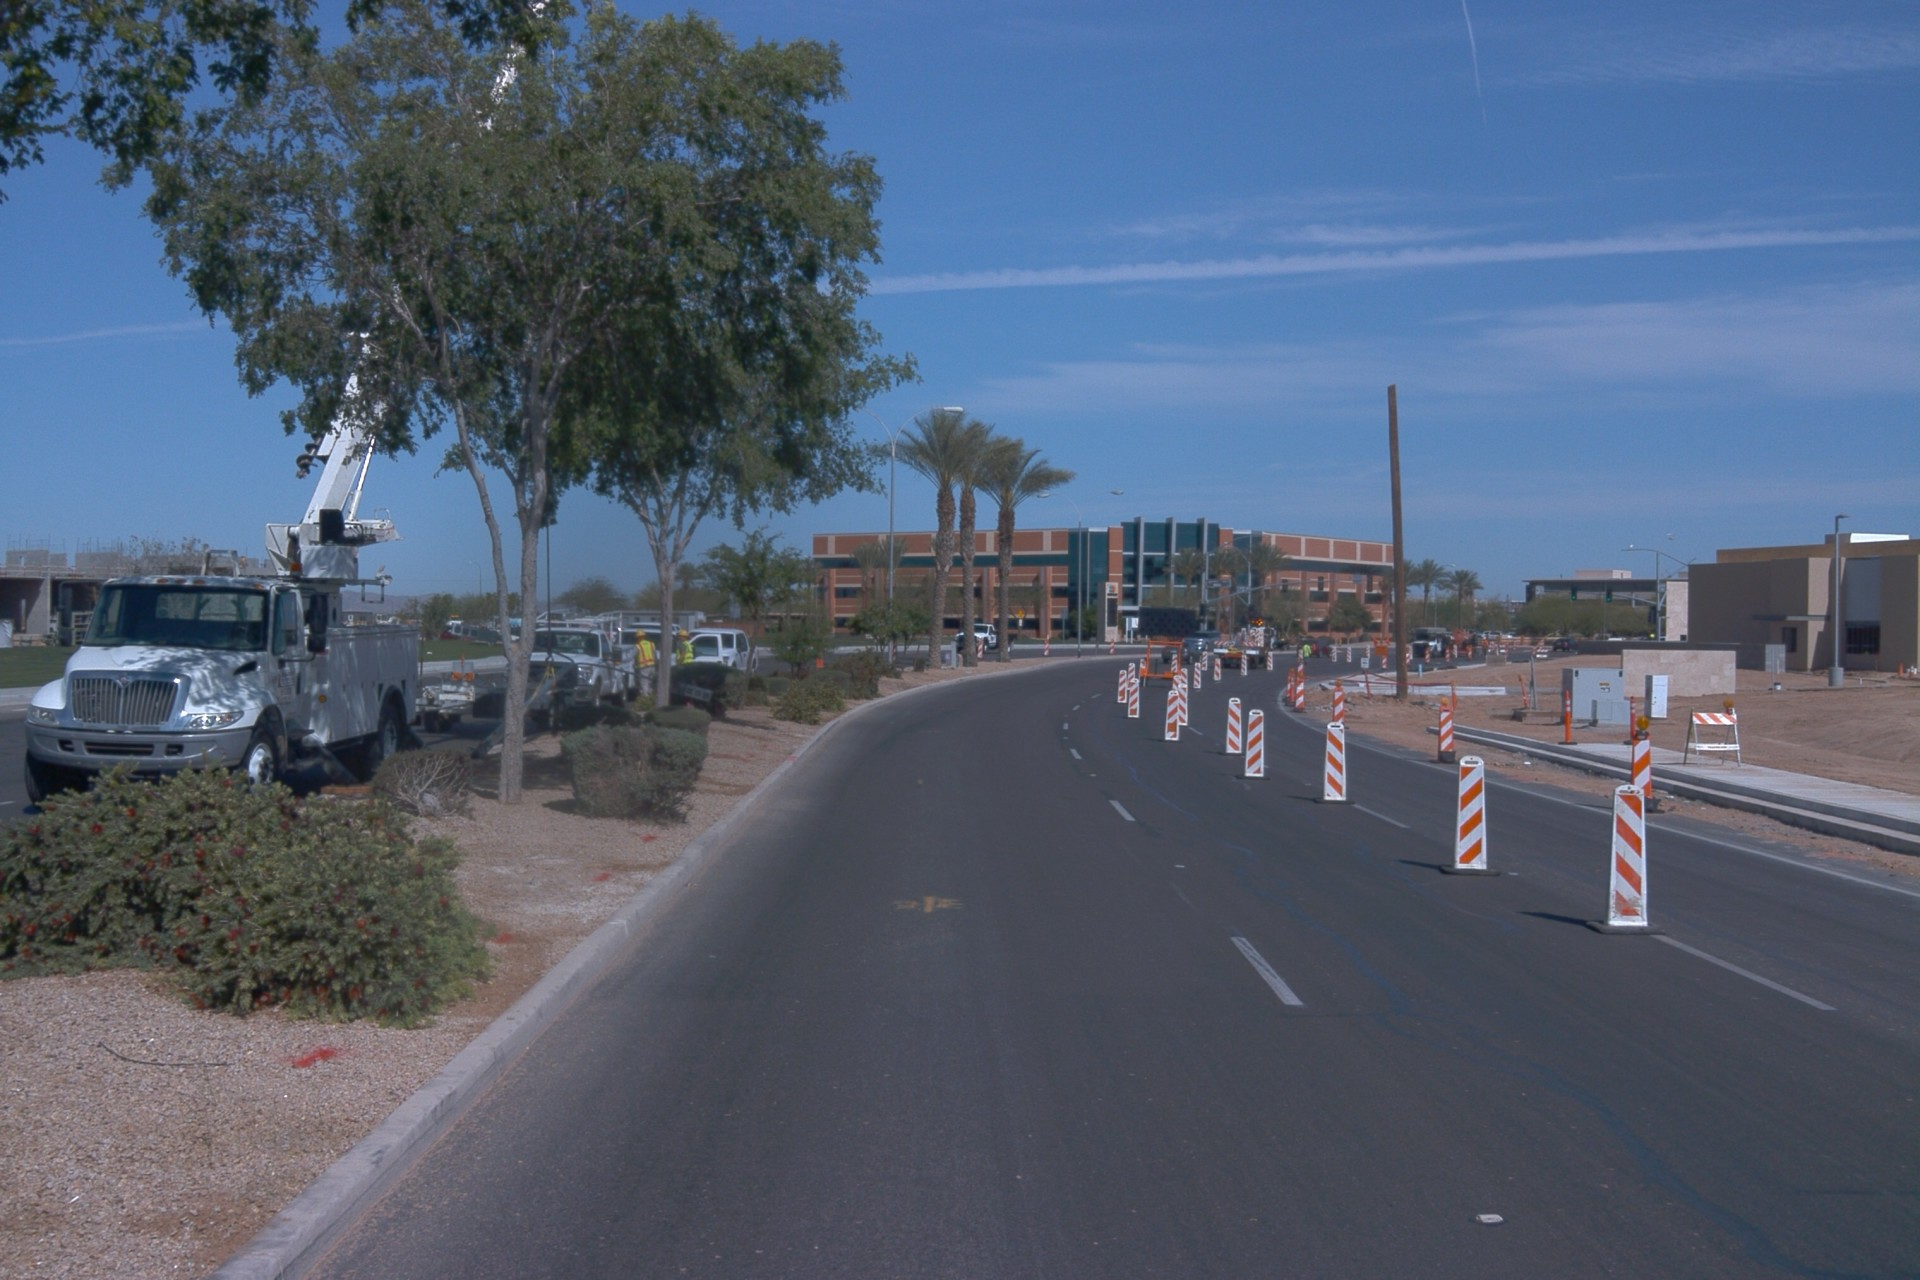TYPE_PEDESTRIAN: (614, 628, 660, 703), (673, 629, 696, 665), (1301, 643, 1311, 668)
TYPE_VEHICLE: (16, 0, 558, 815), (410, 615, 734, 763), (496, 619, 634, 717), (482, 604, 608, 690), (1135, 598, 1211, 695), (607, 623, 693, 689), (1208, 615, 1281, 673), (687, 629, 760, 686), (953, 618, 1020, 664), (1408, 624, 1481, 664), (1247, 624, 1310, 652), (421, 622, 473, 646), (1298, 634, 1338, 662), (1159, 641, 1202, 666), (1182, 629, 1223, 654), (627, 621, 683, 633), (50, 617, 57, 636)
